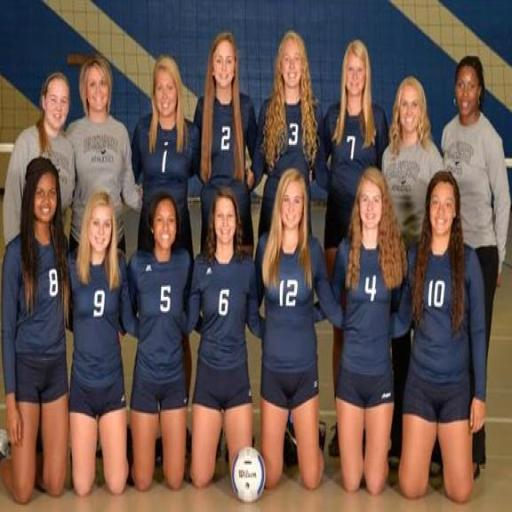person: (399, 171, 486, 501), (256, 170, 342, 489), (0, 157, 70, 503), (333, 168, 407, 494), (188, 188, 261, 487), (442, 56, 511, 358), (69, 191, 136, 496), (129, 193, 191, 490), (323, 41, 387, 276), (254, 31, 327, 236), (67, 55, 141, 250), (194, 32, 257, 253), (132, 55, 199, 259), (132, 55, 199, 258), (4, 72, 74, 245), (383, 77, 443, 248)
